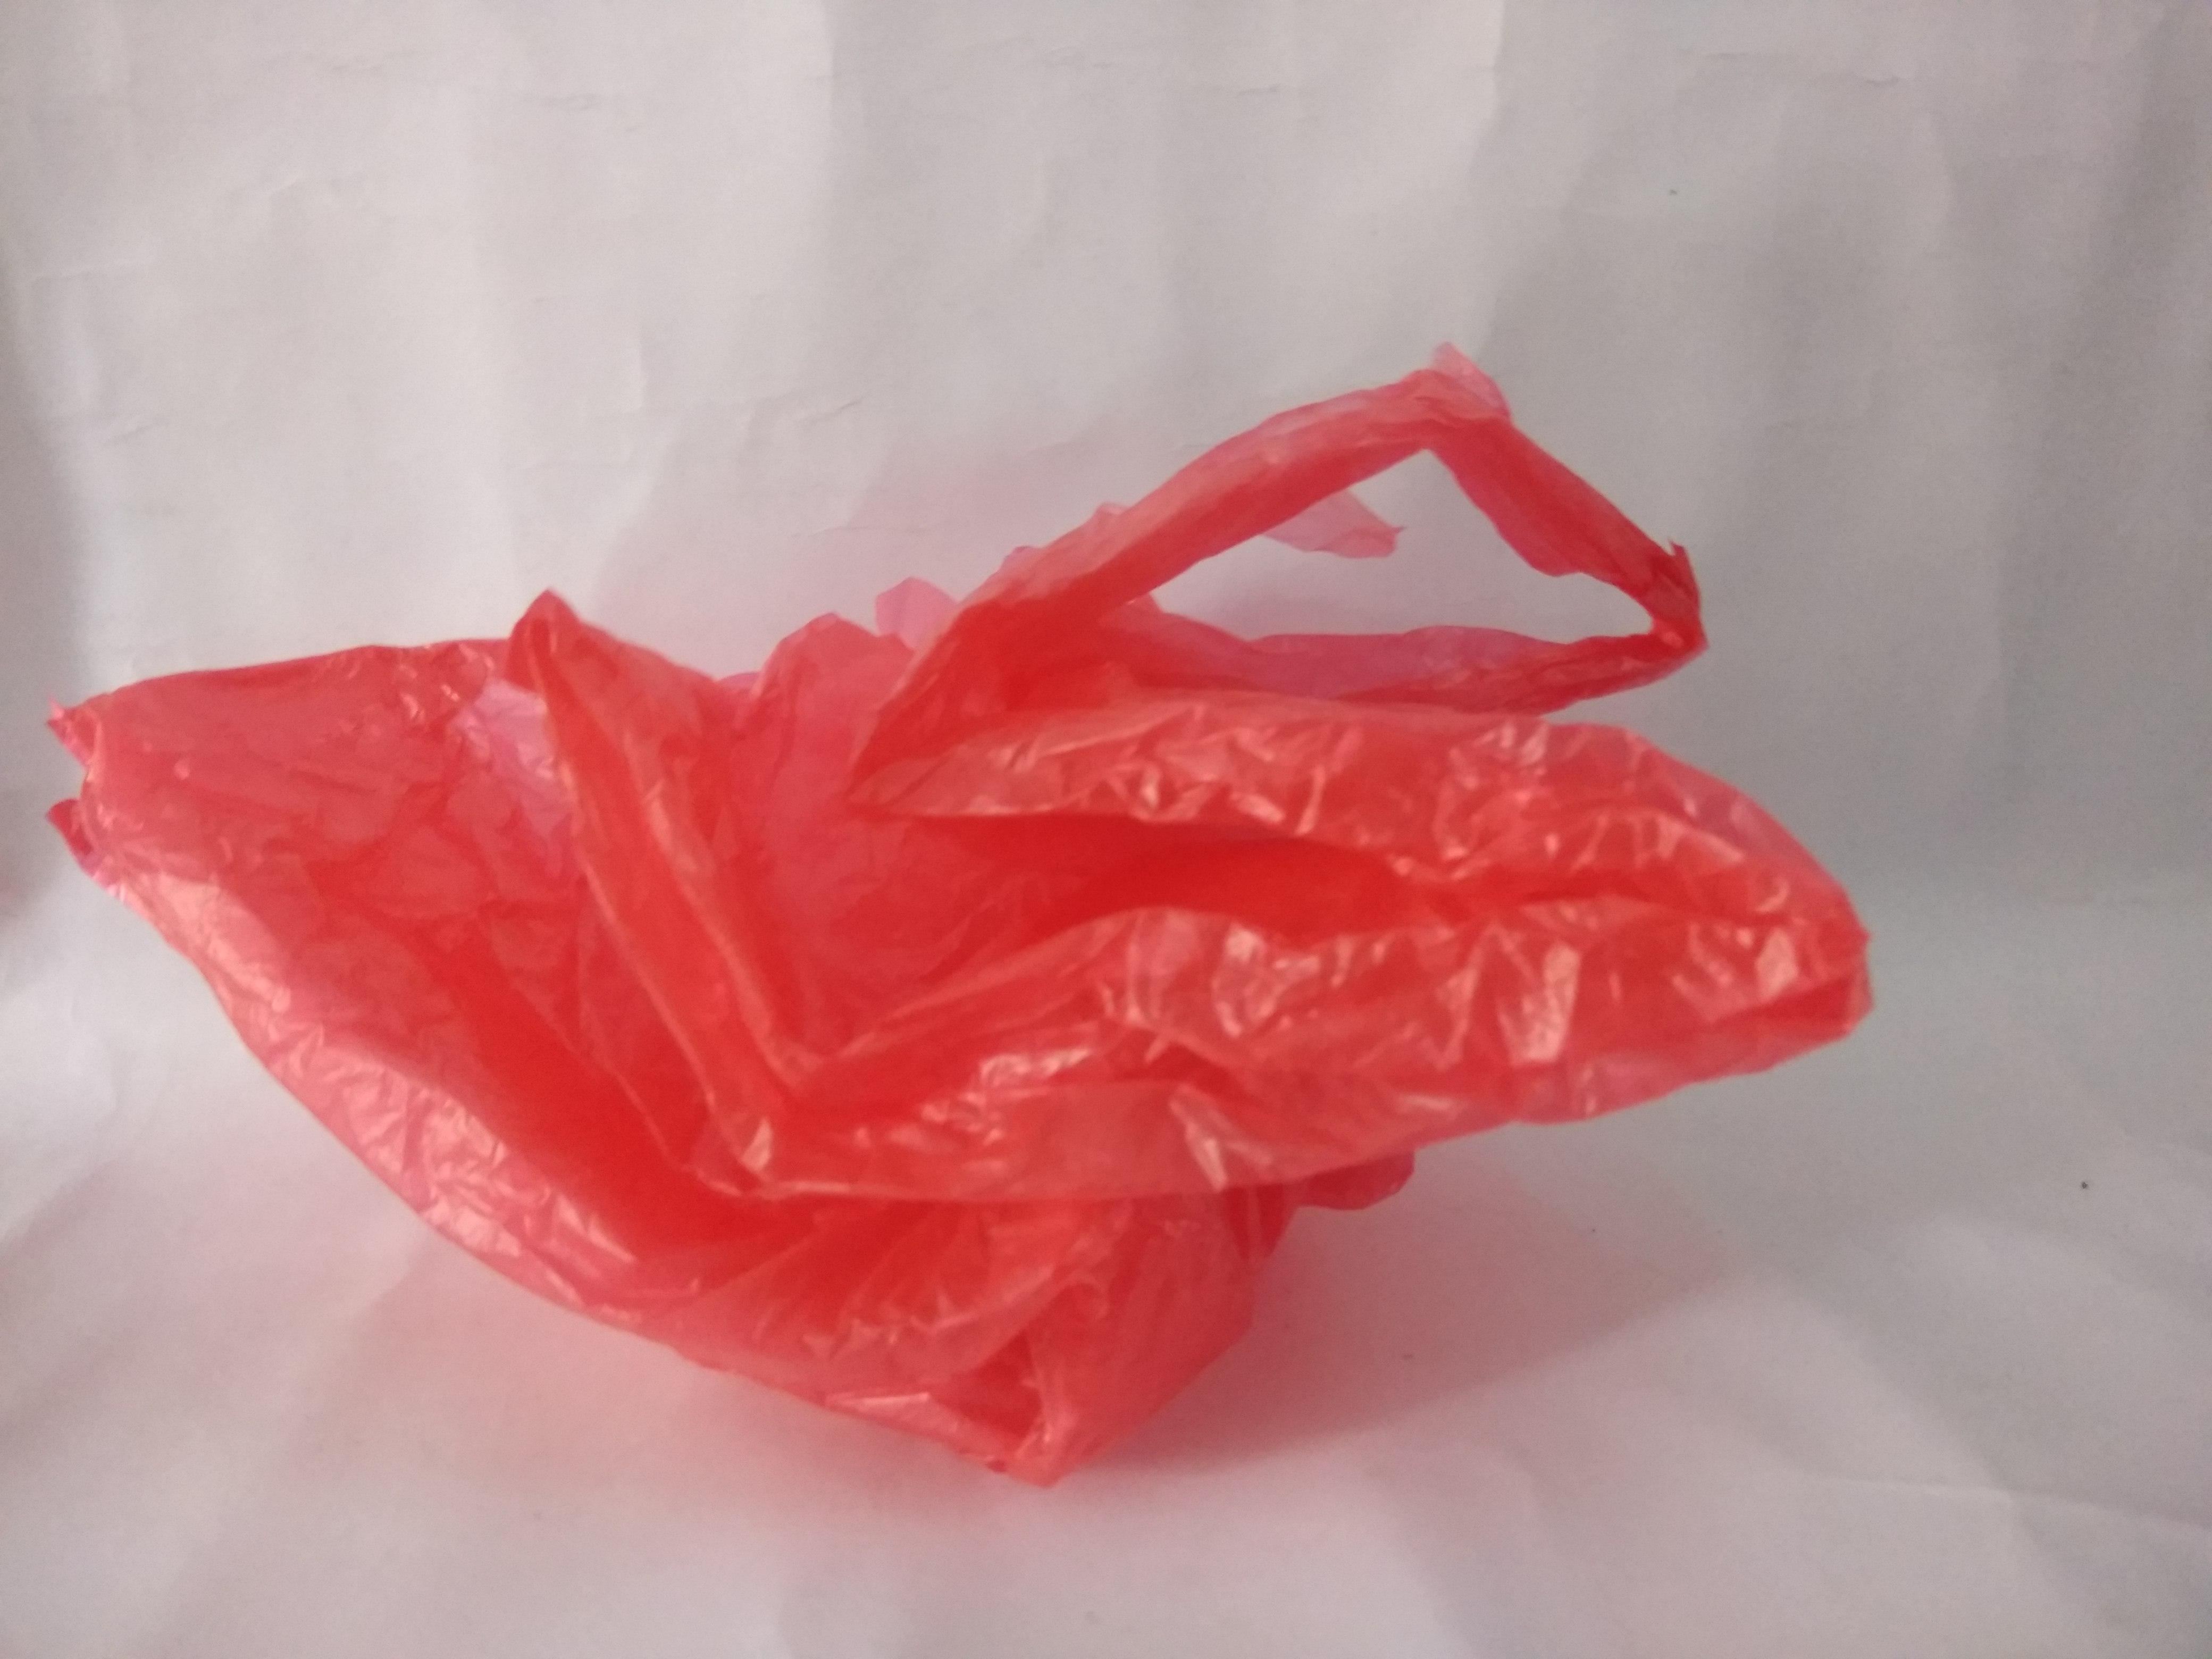LDPE: (0, 38, 2212, 1659)
